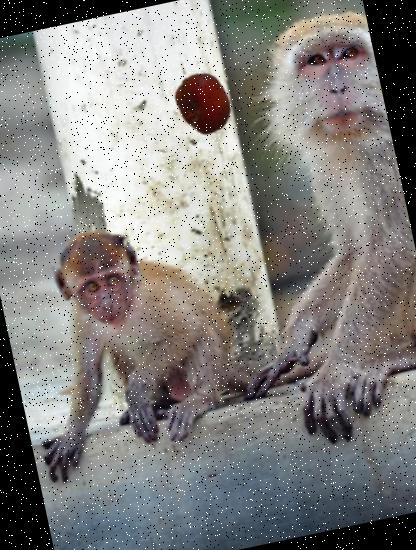Nectarine: (167, 66, 241, 140)
